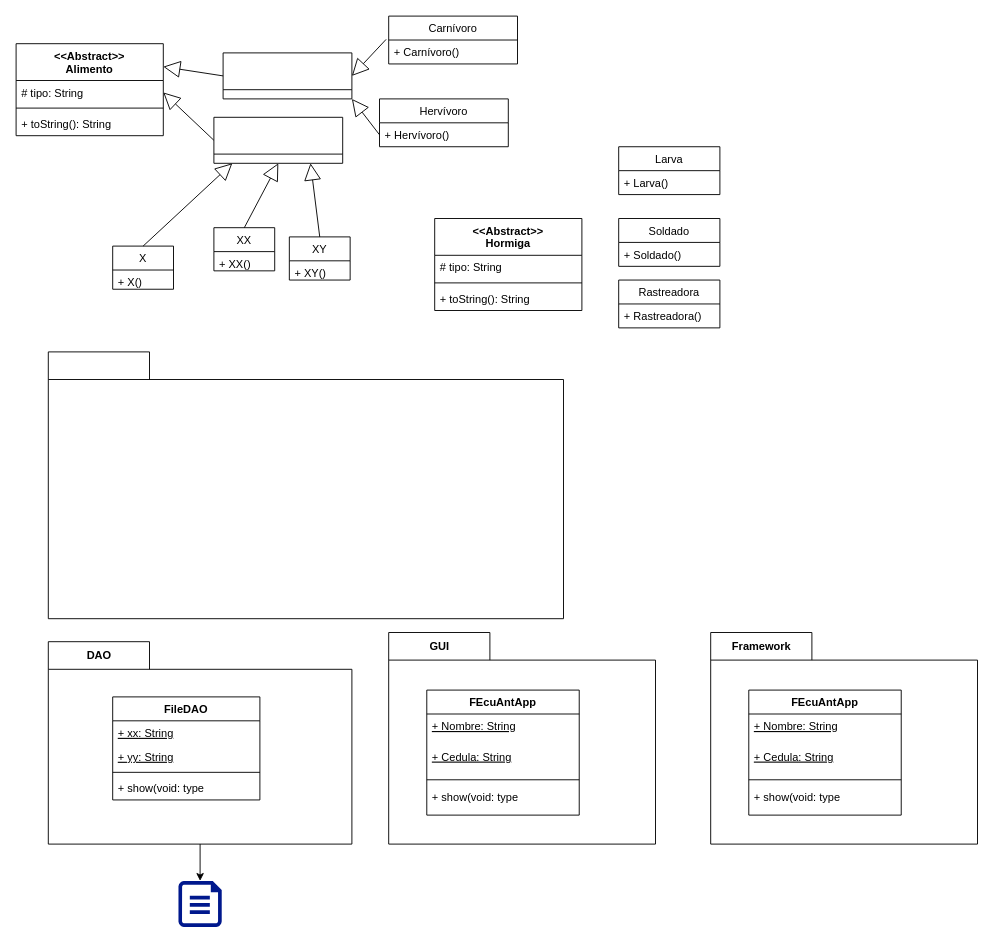
The diagram is 994 pixels wide and 943 high, and some of its shapes have lost their labels. The shapes that lost their labels are listed below. From the top down, each one's centre as x and y in pixels, then its label:
At (x=287, y=75): "<<Abstract>> IngestaNativa".
At (x=278, y=139): "<<Abstract>> GenoAlimento".
At (x=305, y=485): "BL".
